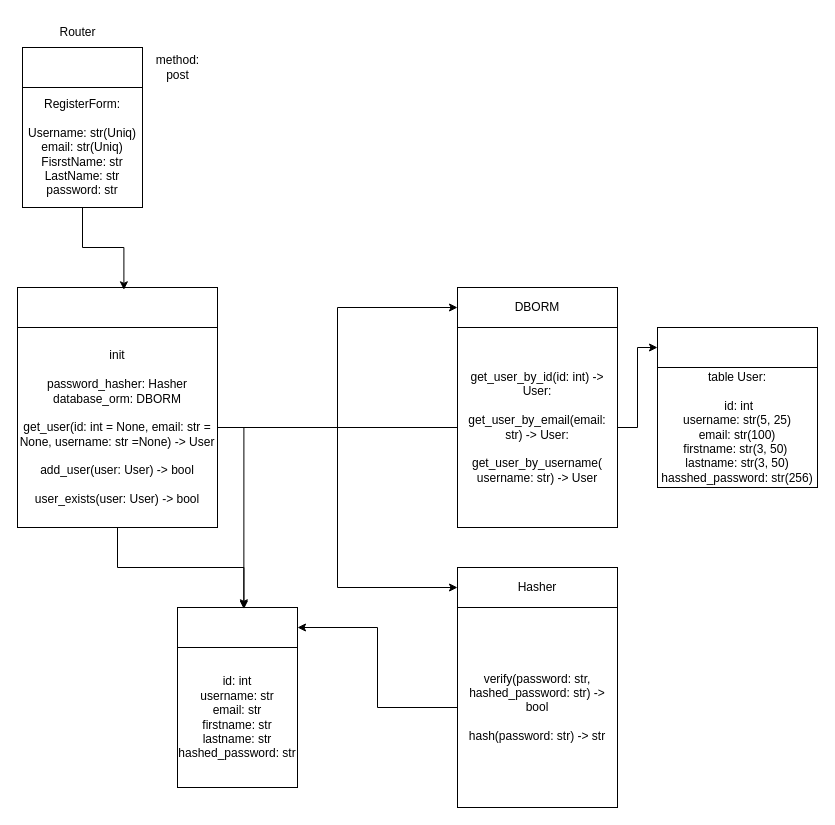
Some shapes in this 835 by 825 pixel diagram are drawn without their labels. Here are the shapes that lost their labels. From the top down, the box of each, then its label:
(22, 46, 142, 88): register
(16, 286, 218, 328): UserRepository
(656, 326, 818, 368): database
(176, 606, 298, 648): User(BaseModel)
